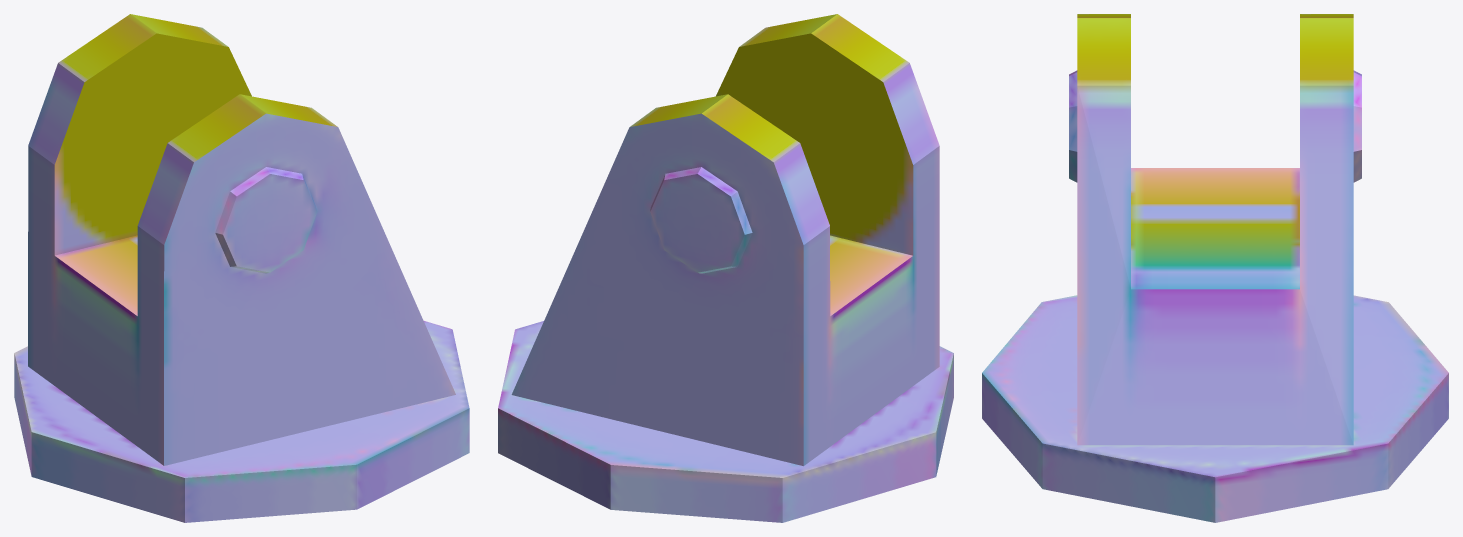
The model's file is Starport_bottom_radar.fbx.
The picture shows the model from 3 angles, left to right: view 1: azimuth 30°, elevation 25°; view 2: azimuth 150°, elevation 25°; view 3: azimuth 270°, elevation 25°; orthographic projection.
Parts seen in each view (by area): view 1: Starport_bottom_radar; view 2: Starport_bottom_radar; view 3: Starport_bottom_radar.
Boxes of the visible parts, x1,y1,x2,y2 form: Starport_bottom_radar: [14, 14, 469, 522]; Starport_bottom_radar: [498, 14, 953, 522]; Starport_bottom_radar: [982, 14, 1448, 522].
Bounding box in the file's own units: 38.5 × 32.55 × 36.38.
